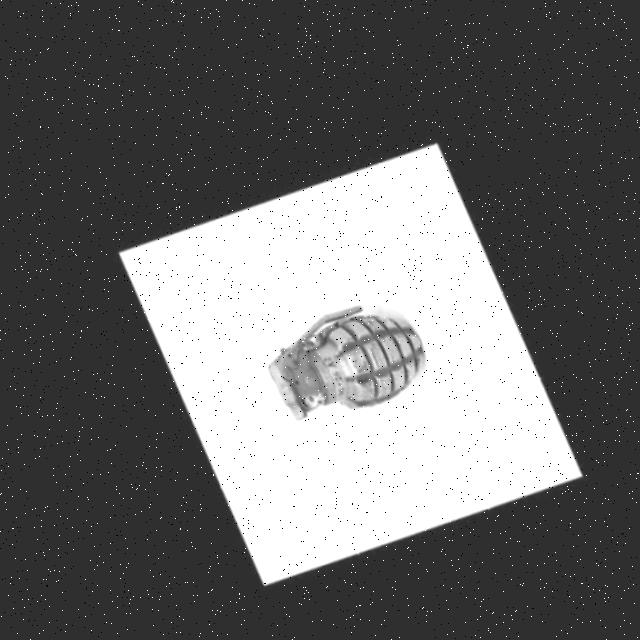grenade: (230, 244, 449, 482)
